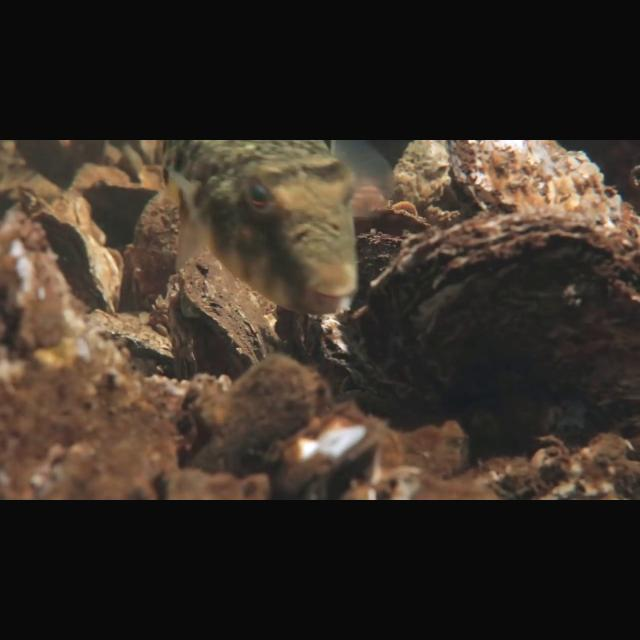Oyster-Closed: (342, 206, 639, 419), (168, 253, 269, 370), (32, 208, 118, 316)
